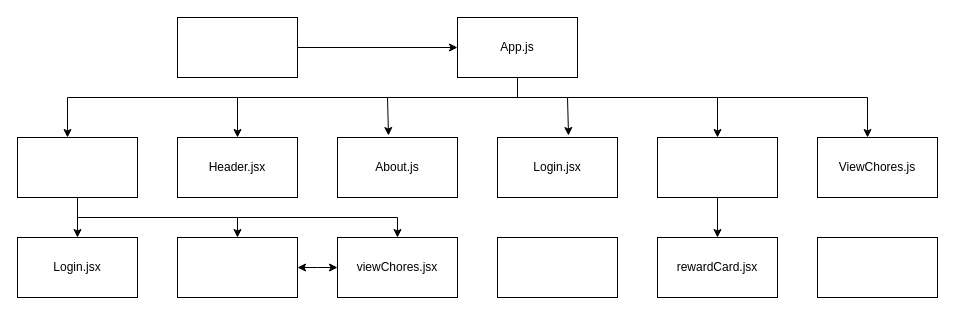
Some shapes in this 955 by 315 pixel diagram are drawn without their labels. The shapes that lost their labels are listed below. From the top down, each one's centre as x and y in pixels, then its label:
At [237,47]: "index.js".
At [77,167]: "Home.js".
At [717,167]: "ViewRewards.js".
At [237,267]: "createChores.jsx".
